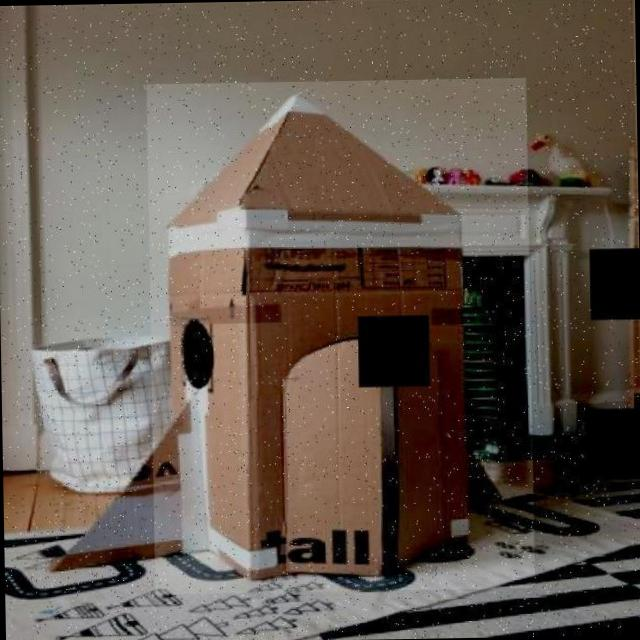box: (146, 77, 535, 594)
